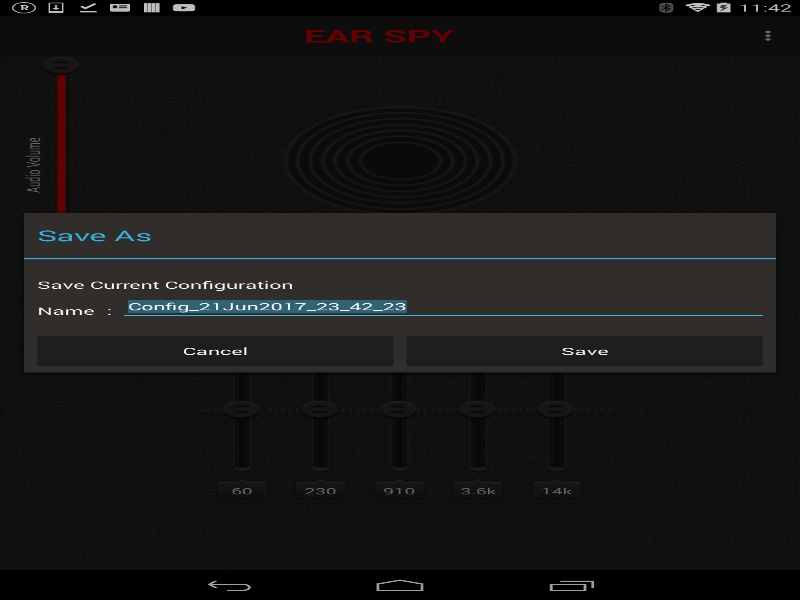Button: (37, 336, 393, 366), (406, 336, 762, 366)
Input: (124, 297, 762, 315)
